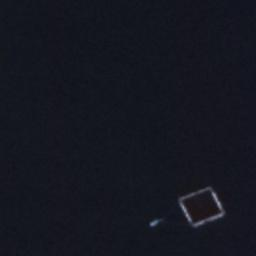square_solid: (174, 183, 229, 231)
